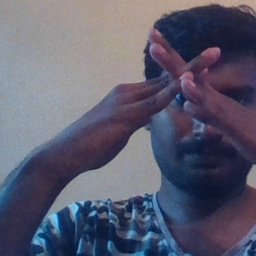W: (120, 24, 246, 145)
